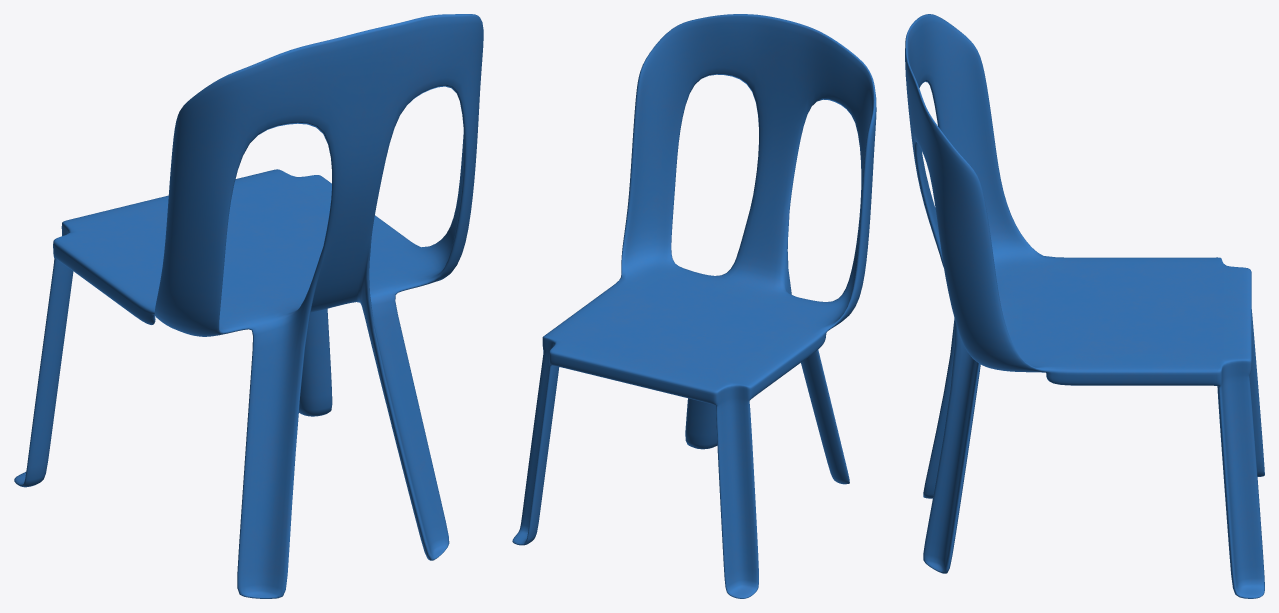
Rendered from Chair27.fbx.
The picture shows the model from 3 angles, left to right: view 1: azimuth 30°, elevation 25°; view 2: azimuth 150°, elevation 25°; view 3: azimuth 270°, elevation 25°; orthographic projection. The views are drawn at different scales.
Parts seen in each view (by area): view 1: Chair27; view 2: Chair27; view 3: Chair27.
Boxes of the visible parts, x1,y1,x2,y2 form: Chair27: [14, 14, 483, 598]; Chair27: [512, 14, 876, 598]; Chair27: [905, 14, 1264, 598].
Size of the model in its own units: 51.83 by 90.51 by 60.21.
